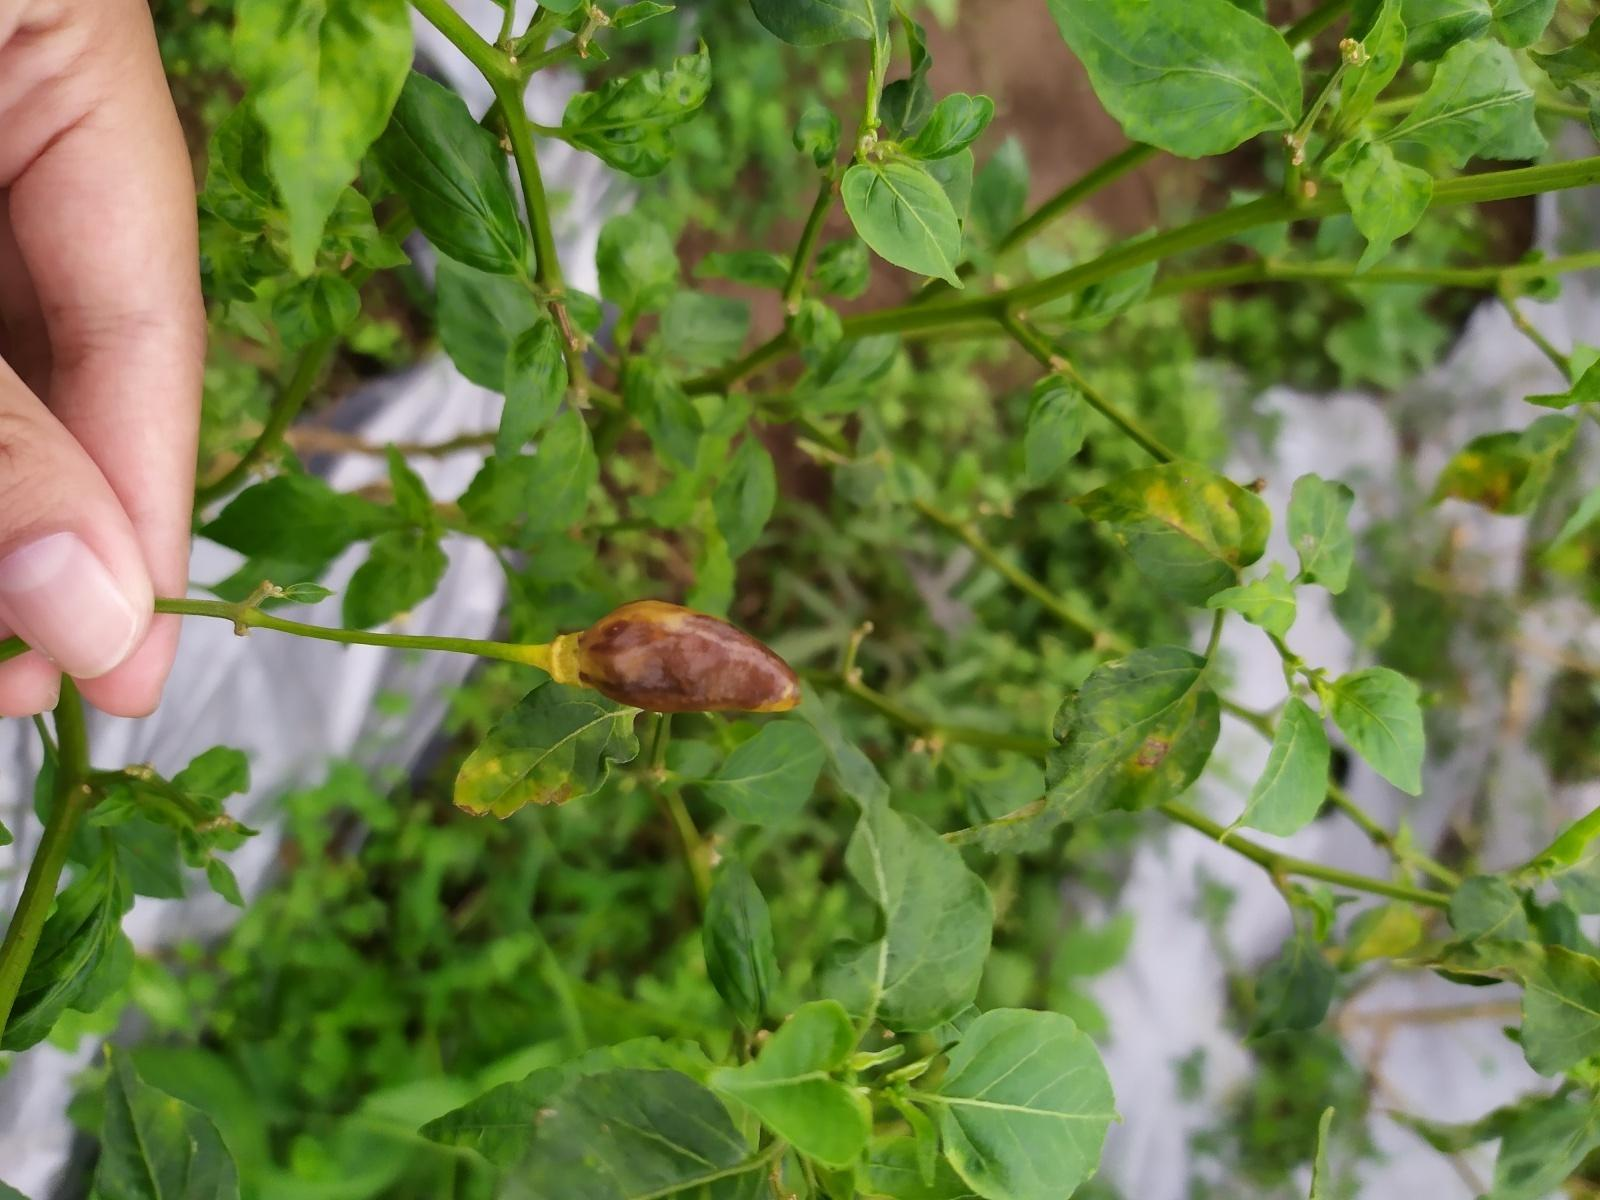lalat_buah: (563, 599, 799, 716)
